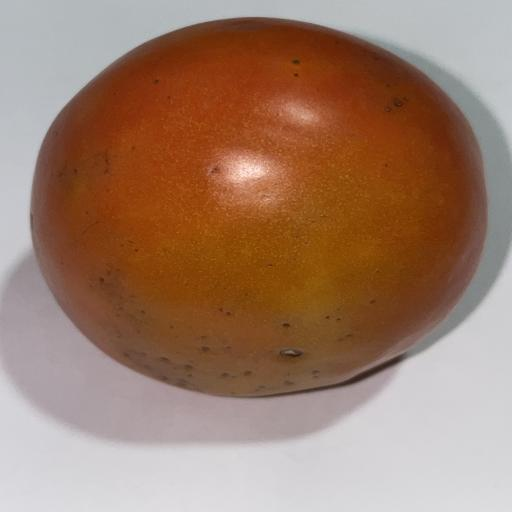unripe: (31, 18, 487, 396)
